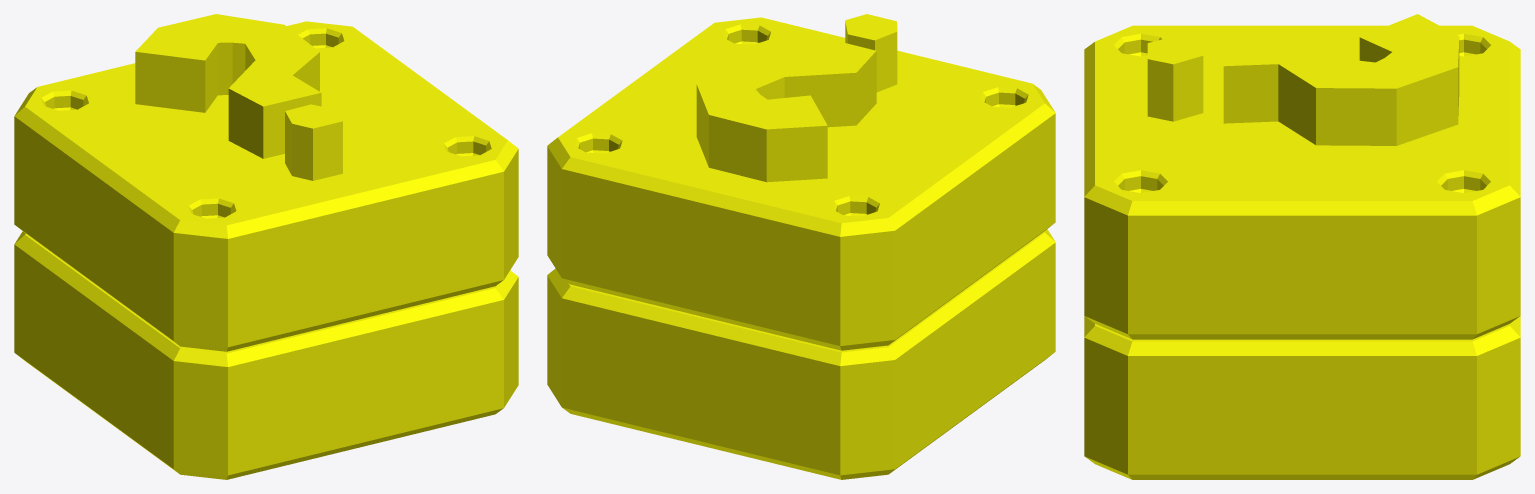
The model's file is powerup.glb.
3 views of the same model, side by side, from view 1: azimuth 30°, elevation 25°; view 2: azimuth 150°, elevation 25°; view 3: azimuth 270°, elevation 25° (orthographic). The views are drawn at different scales.
Visible parts, largest first — view 1: powerup; view 2: powerup; view 3: powerup.
Part boxes in pixels (x1=…): powerup: x1=14, y1=14, x2=518, y2=479; powerup: x1=547, y1=14, x2=1055, y2=479; powerup: x1=1084, y1=14, x2=1520, y2=479.
Size of the model in its own units: 2 by 1.7 by 2.
1 material, 1 textured.
